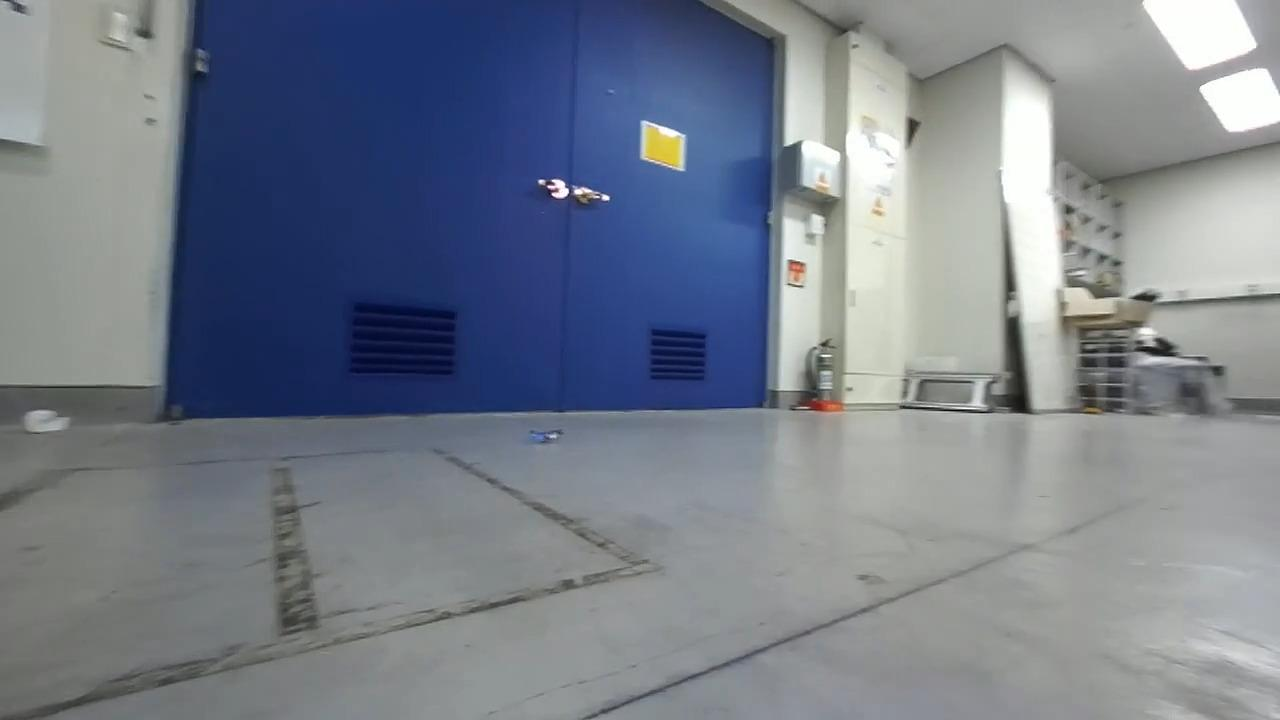crazyflie: (521, 423, 571, 449)
